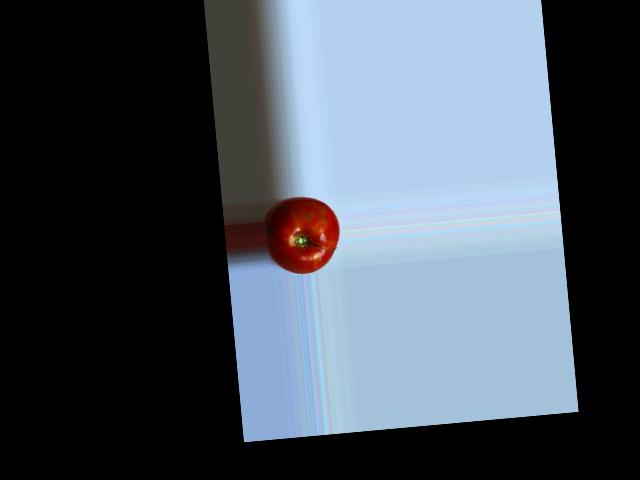tomato: (261, 193, 342, 277)
